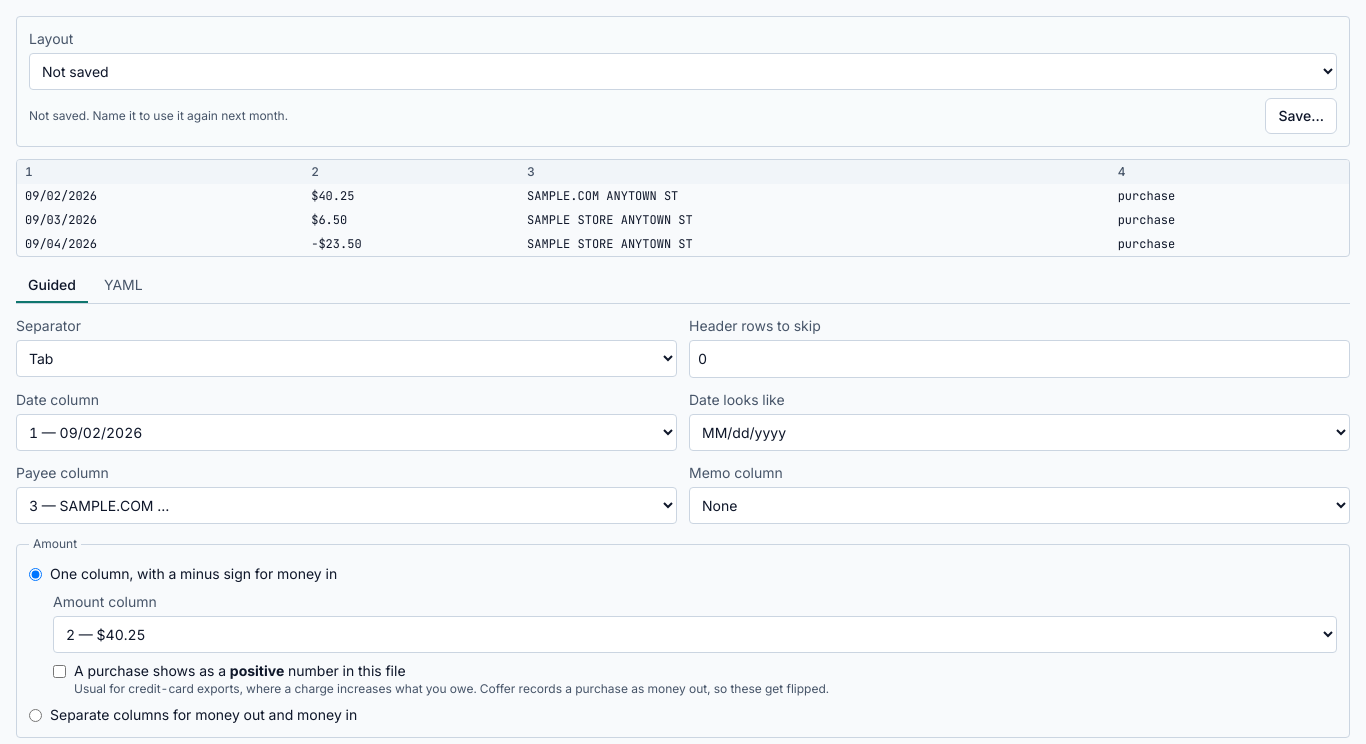
Scenario: CsvMappingStep › does not accuse you of hand-editing a layout you only opened
Select "Store card statement" in the dropdown labelled "Layout". click: (683, 72)
box: [29,53,1337,90]
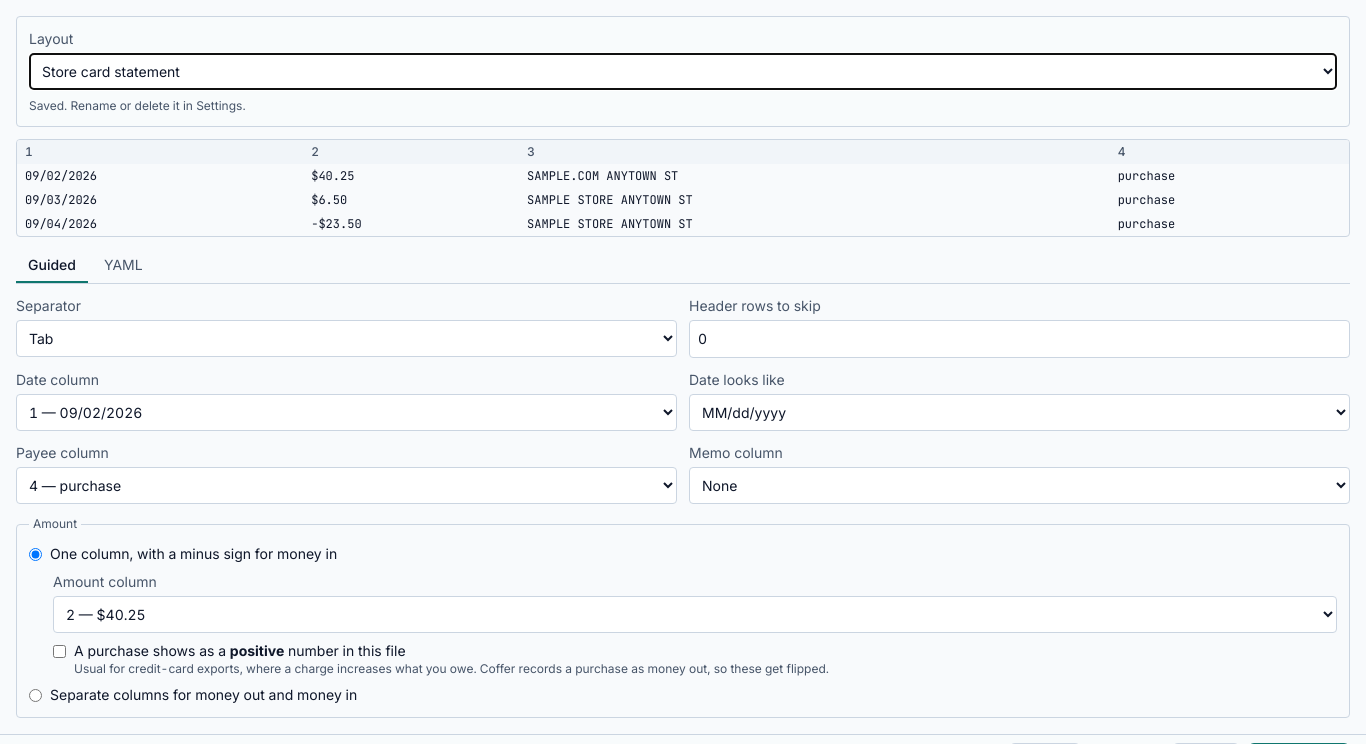
Expected: the text "Saved. Rename or delete it in Settings." is shown, [29,98,246,113]
